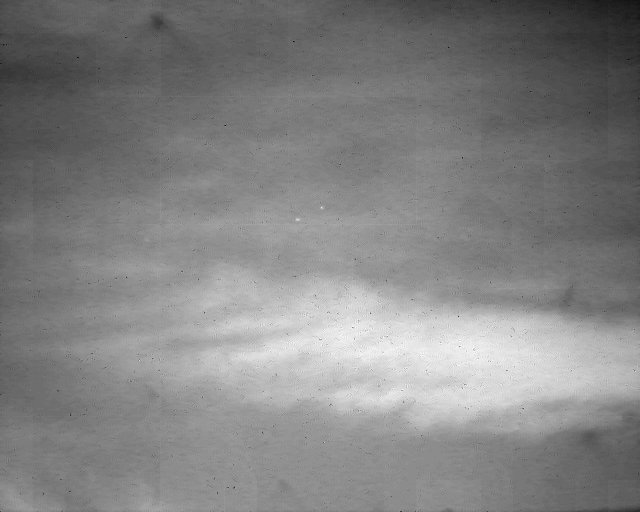Target: (296, 219, 301, 222), (321, 207, 325, 210)
